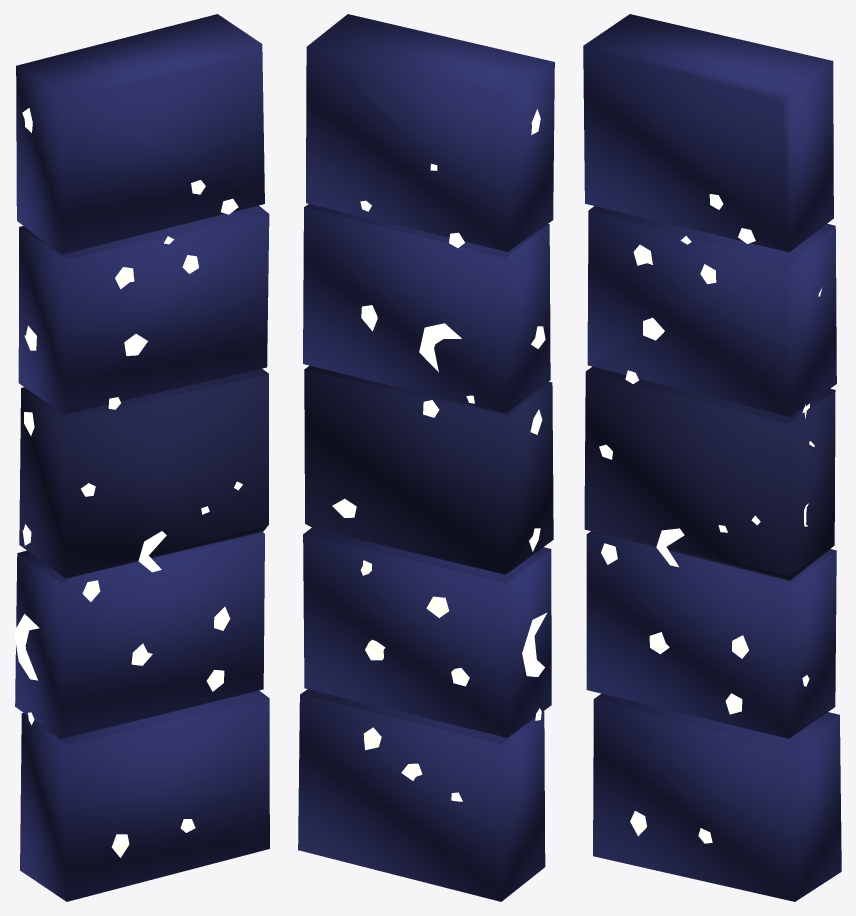
Rendered from den_night_column_lod2.glb.
3 renders of one model, left to right at view 1: azimuth 30°, elevation 25°; view 2: azimuth 150°, elevation 25°; view 3: azimuth 330°, elevation 25°, orthographic.
Parts seen in each view (by area): view 1: den_night_column.001; view 2: den_night_column.001; view 3: den_night_column.001.
Boxes of the visible parts, x1=… form: den_night_column.001: x1=14, y1=14, x2=269, y2=901; den_night_column.001: x1=298, y1=14, x2=554, y2=901; den_night_column.001: x1=583, y1=14, x2=841, y2=901.
Size of the model in its own units: 6.19 by 21.94 by 2.5.
